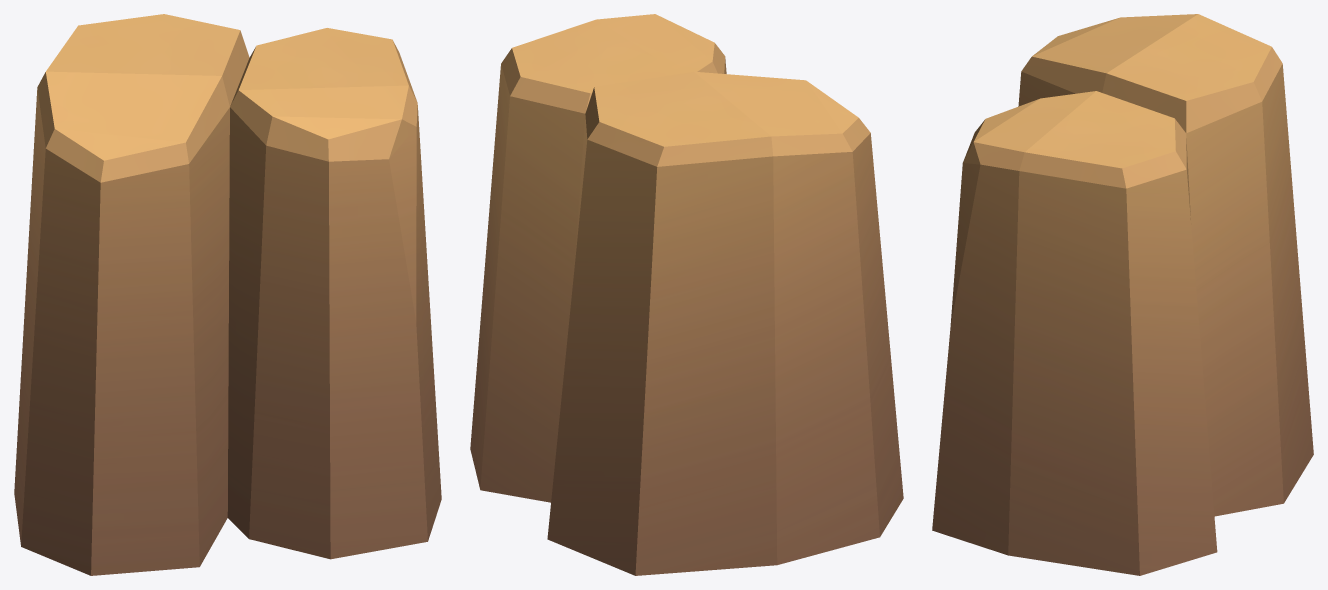
File: high rocka.fbx
3 views of the same model, side by side, from view 1: azimuth 30°, elevation 25°; view 2: azimuth 150°, elevation 25°; view 3: azimuth 270°, elevation 25° (orthographic). The views are drawn at different scales.
Parts seen in each view (by area): view 1: high_rocka; view 2: high_rocka; view 3: high_rocka.
Boxes of the visible parts, bbox=[...] form: high_rocka: bbox=[14, 14, 441, 575]; high_rocka: bbox=[470, 14, 903, 575]; high_rocka: bbox=[932, 14, 1313, 575].
Size of the model in its own units: 9.18 by 9.19 by 7.84.
1 material, 1 textured.
